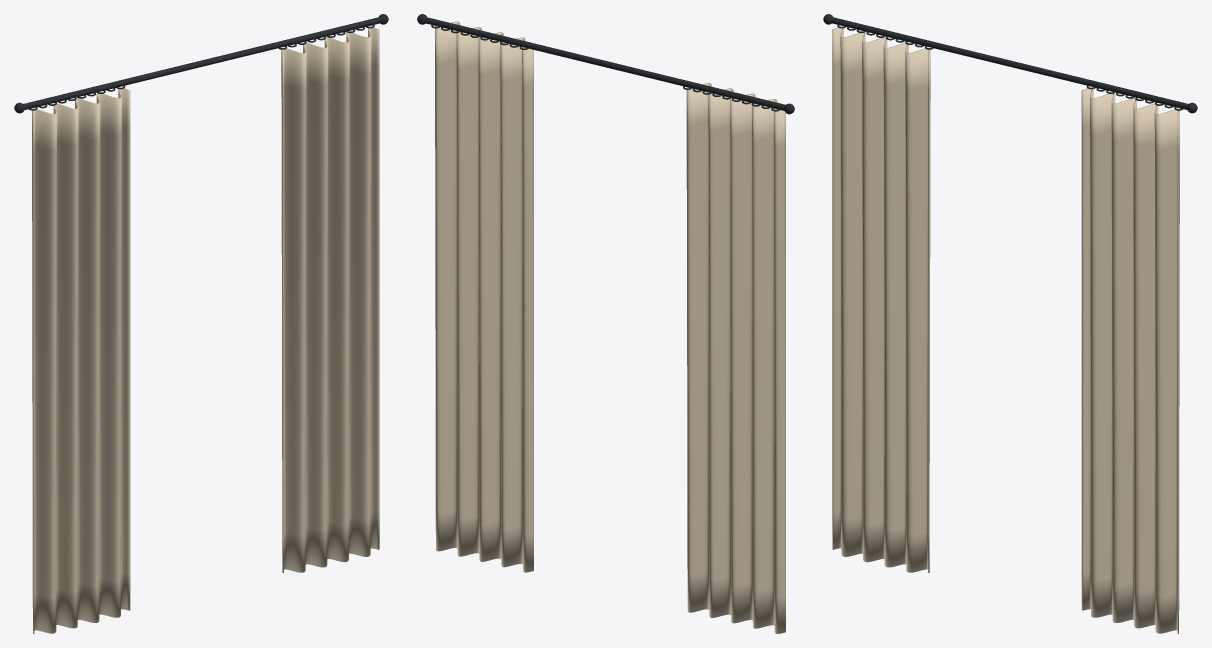
File: curtain.glb
3 renders of one model, left to right at view 1: azimuth 30°, elevation 25°; view 2: azimuth 150°, elevation 25°; view 3: azimuth 330°, elevation 25°, orthographic.
Visible parts, largest first — view 1: surf, surf.001, cyl; view 2: surf, surf.001, cyl; view 3: surf.001, surf, cyl.
Boxes of the visible parts, left/top/right/bottom form: surf: left=32, top=88, right=130, bottom=633; surf.001: left=281, top=27, right=379, bottom=572; cyl: left=23, top=17, right=381, bottom=109; surf: left=686, top=83, right=785, bottom=633; surf.001: left=435, top=21, right=533, bottom=572; cyl: left=424, top=17, right=785, bottom=110; surf.001: left=1081, top=88, right=1179, bottom=633; surf: left=832, top=27, right=930, bottom=572; cyl: left=830, top=17, right=1188, bottom=109.
Size of the model in its own units: 176 by 239 by 11.25.
